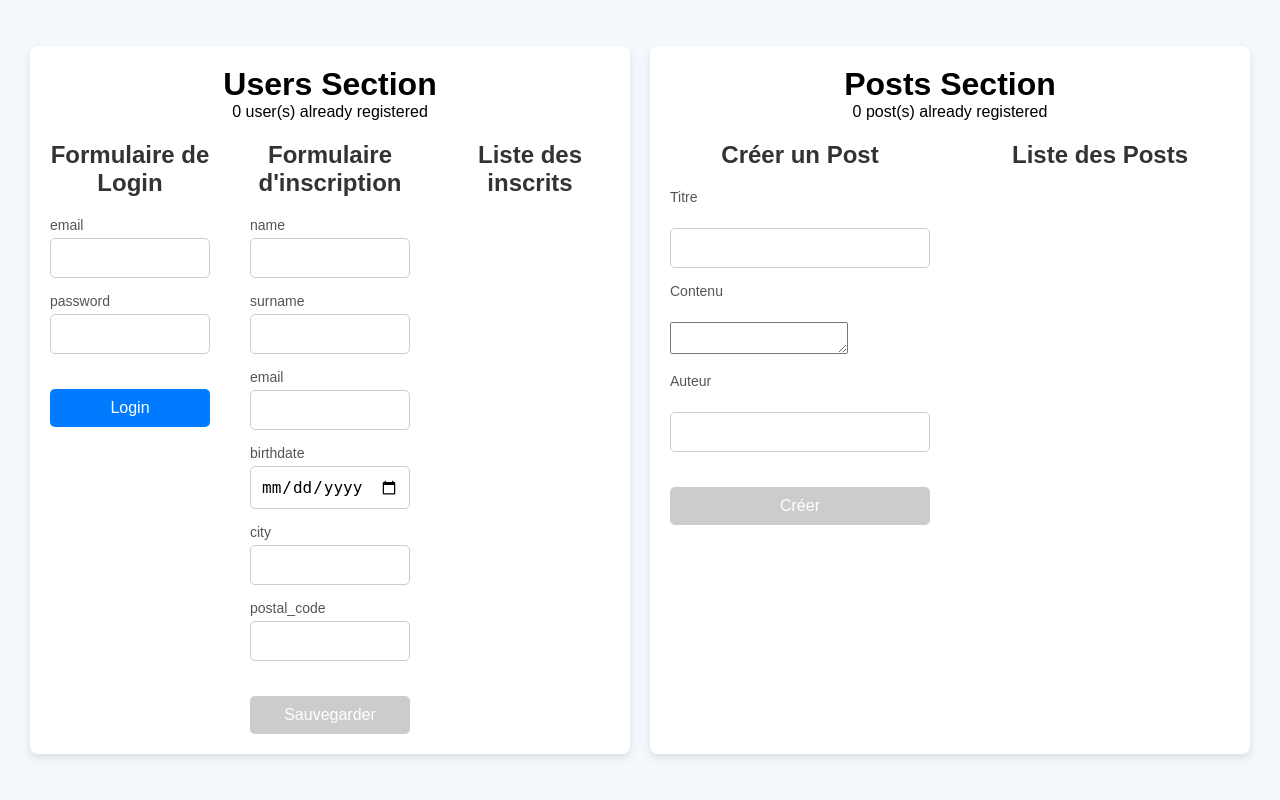
Scenario: Création de post › doit permettre la création d'un post
Expected: the heading "Créer un Post" is shown, [721,141,879,168]
In the field named "title": (800, 248) [670,228,930,268], type "Mon premier post"
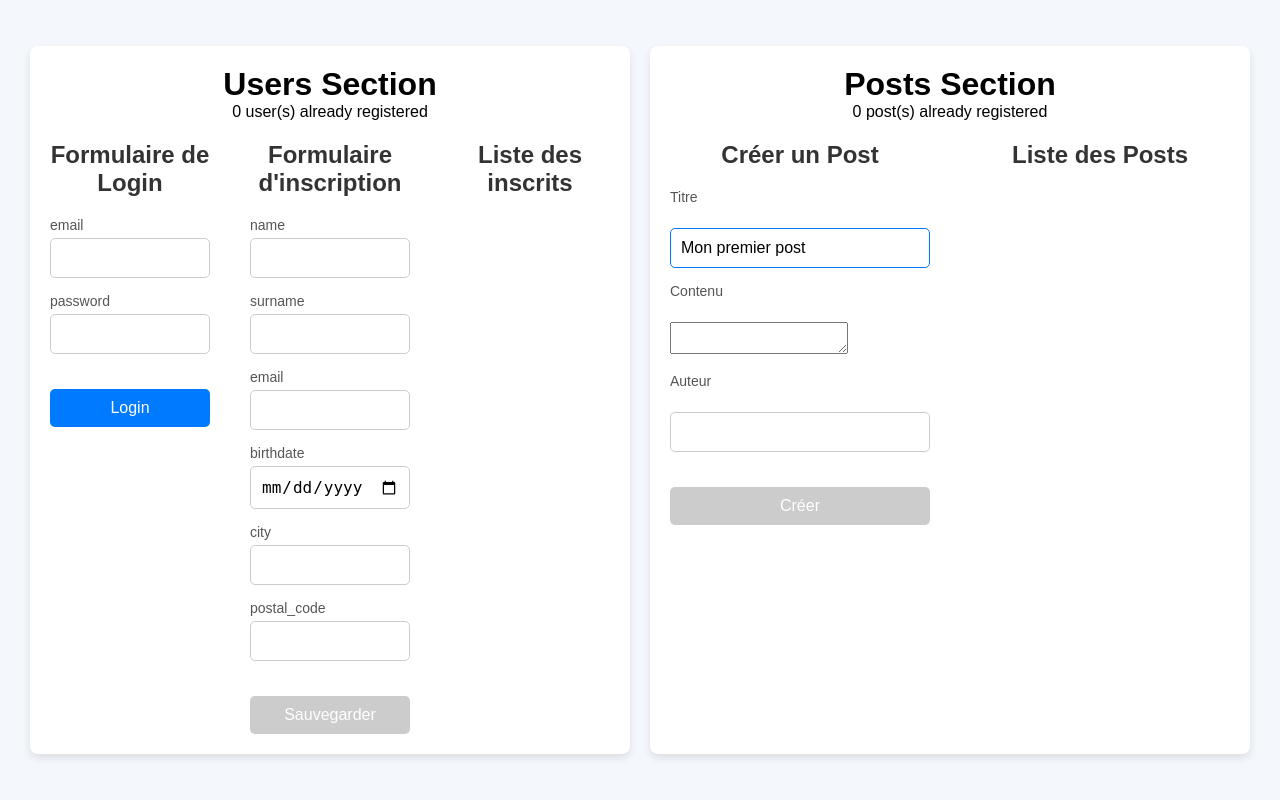
In the text box named "content": (759, 338) [670,322,848,354], type "Ceci est le contenu du post."
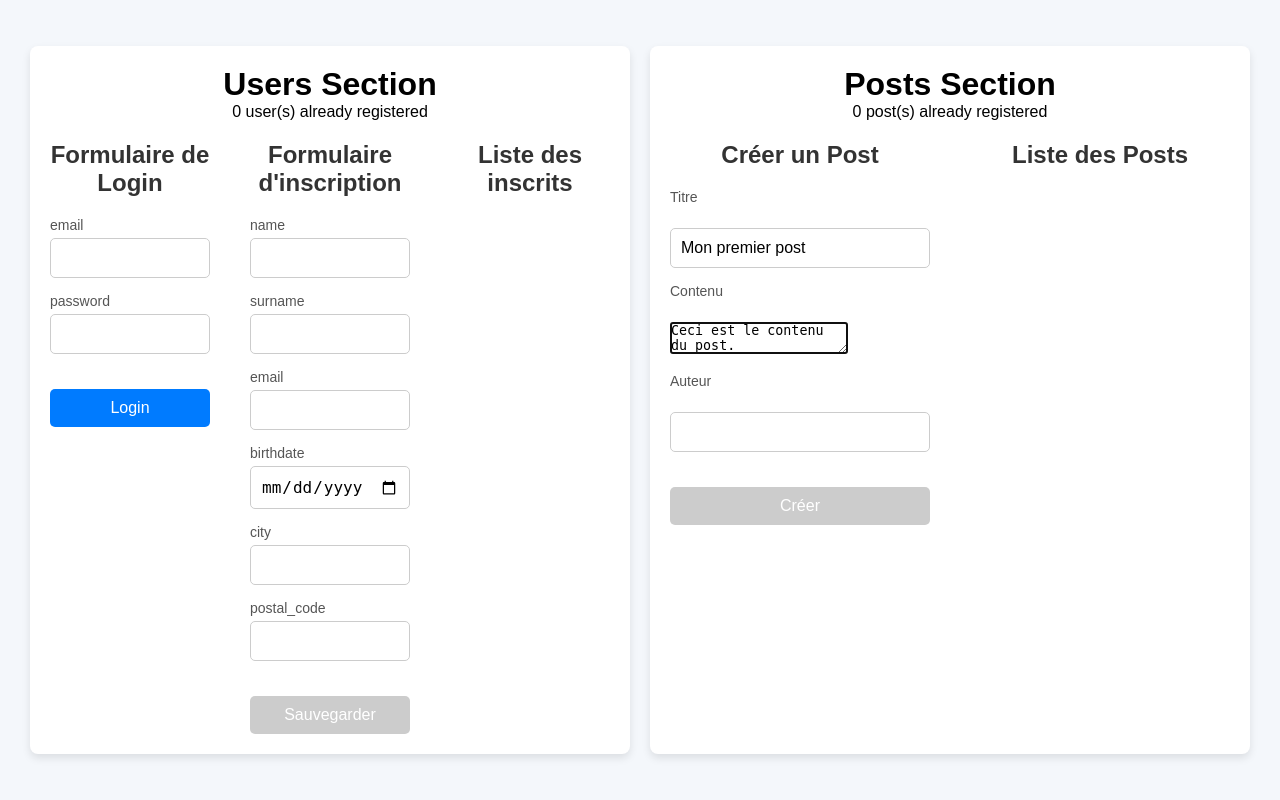
In the field named "author": (800, 432) [670,412,930,452], type "Jean Dupont"
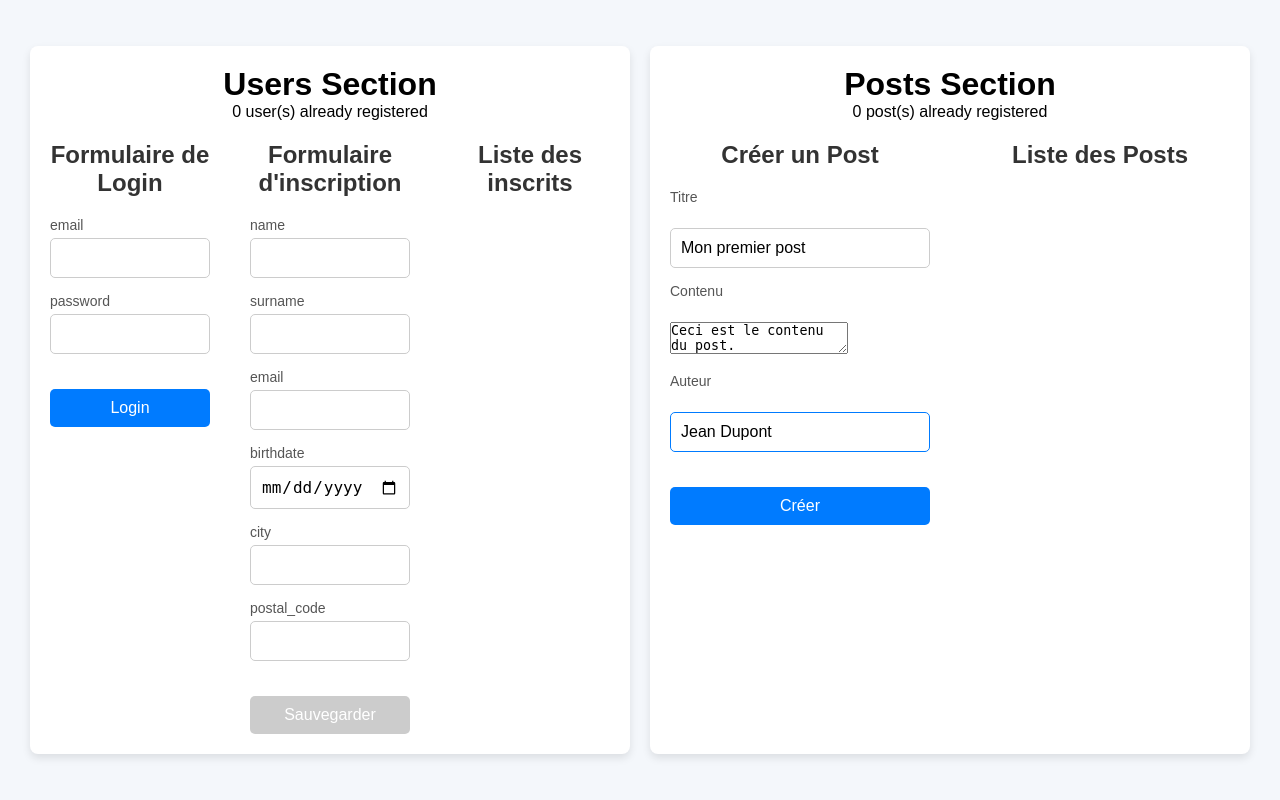
Expected: the text "Créer" is enabled
Click the button "Créer": (800, 506) [670,487,930,525]
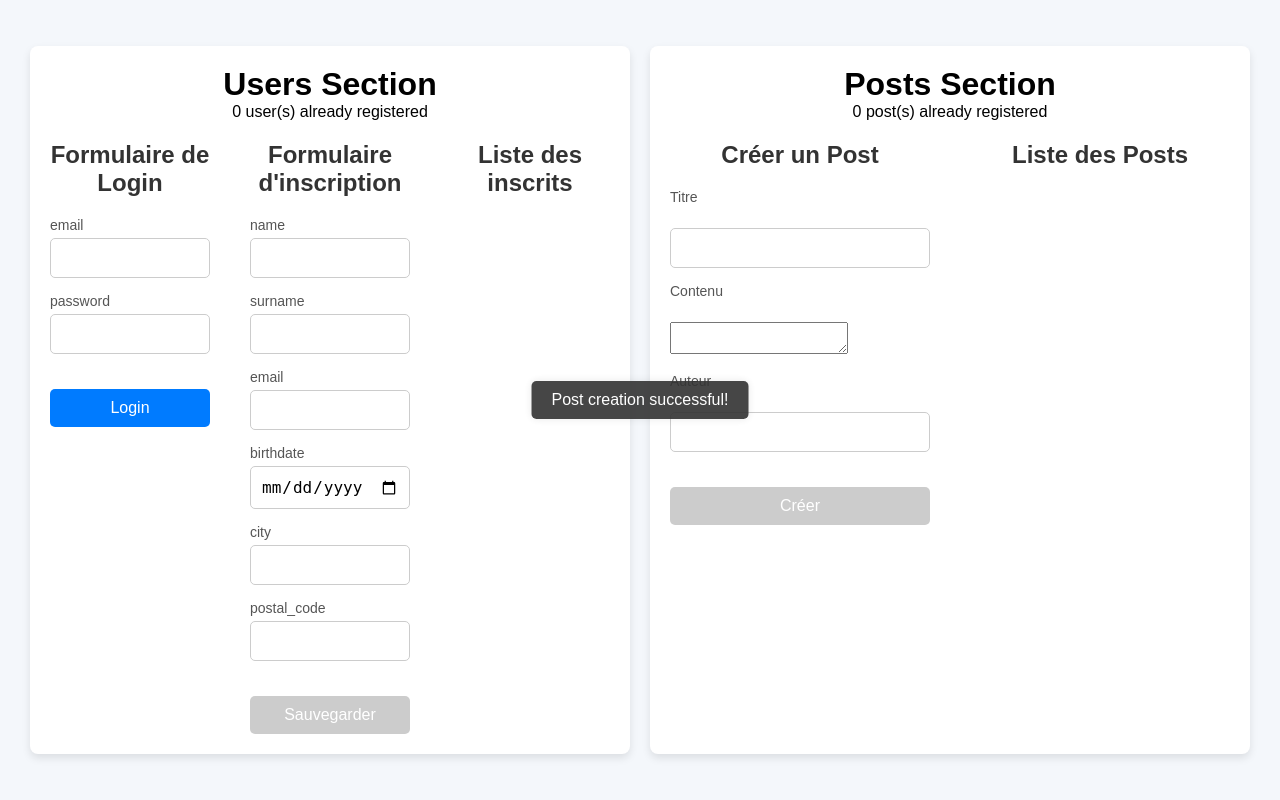
Reload the page
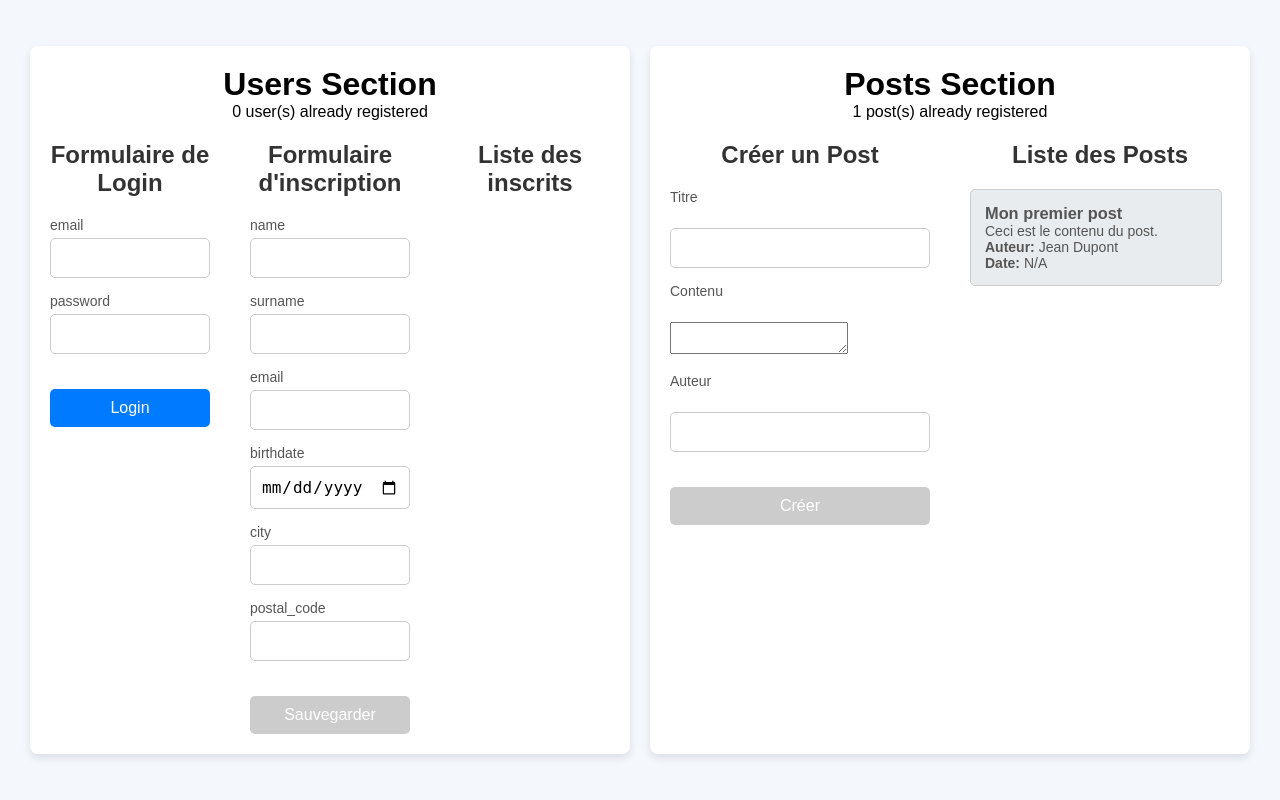
Now the heading "Mon premier post" is shown, box [985,204,1122,222]
Now the text "Ceci est le contenu du post." is shown, box [985,223,1158,239]
Now the element showing "Auteur: Jean Dupont" is shown, box [985,239,1118,255]
